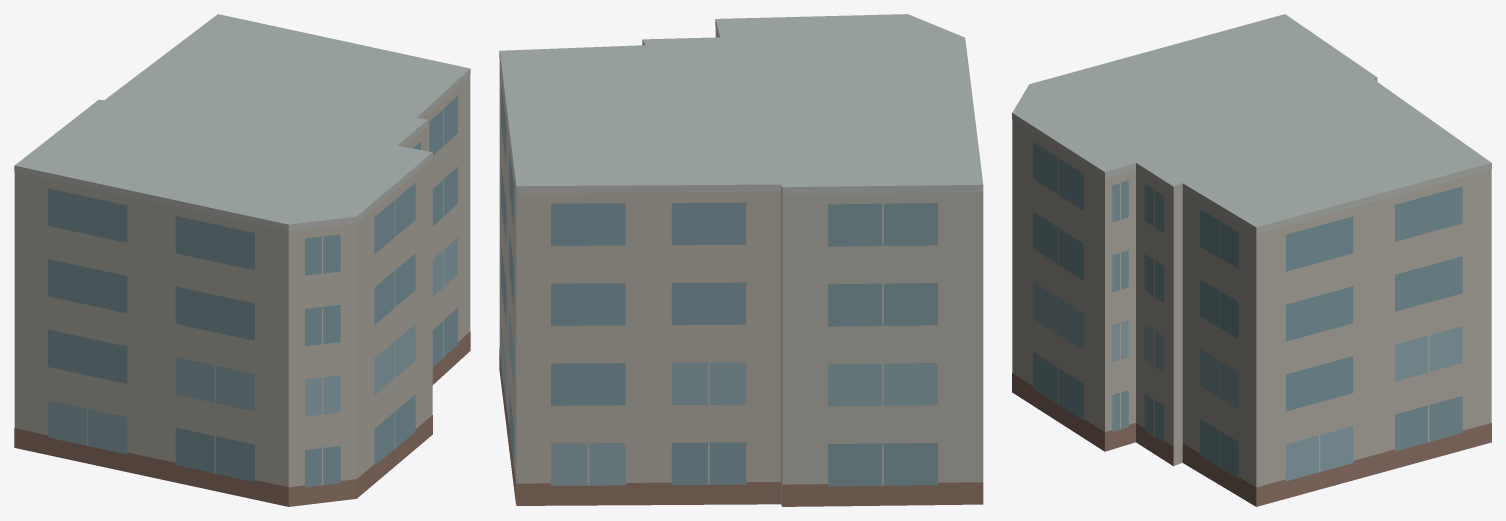
File: survey-upis-32923444.glb
3 renders of one model, left to right at view 1: azimuth 30°, elevation 25°; view 2: azimuth 150°, elevation 25°; view 3: azimuth 270°, elevation 25°, orthographic. The views are drawn at different scales.
Parts seen in each view (by area): view 1: survey-upis-32923444.tmp; view 2: survey-upis-32923444.tmp; view 3: survey-upis-32923444.tmp.
Boxes of the visible parts, bbox=[...] form: survey-upis-32923444.tmp: bbox=[14, 14, 470, 506]; survey-upis-32923444.tmp: bbox=[499, 14, 983, 506]; survey-upis-32923444.tmp: bbox=[1012, 14, 1491, 506].
Size of the model in its own units: 17.2 by 10.5 by 16.34.
